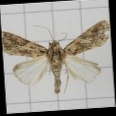Spodoptera litura: (2, 22, 111, 94)
